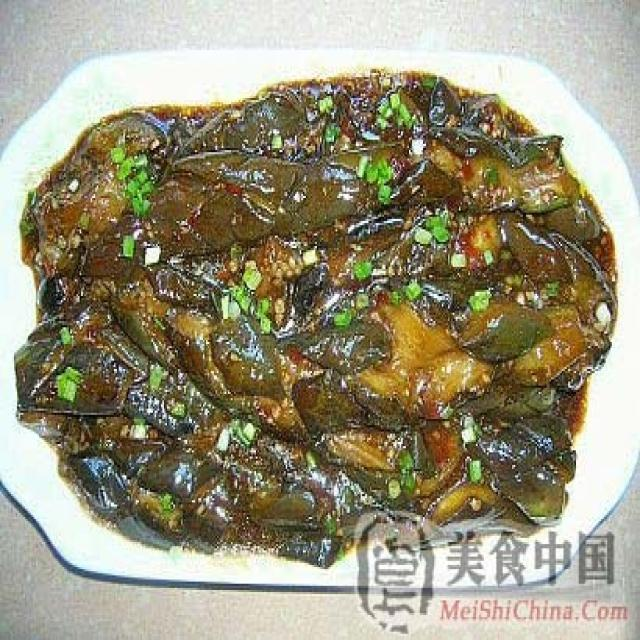鸡蛋料理: (15, 44, 622, 598)
